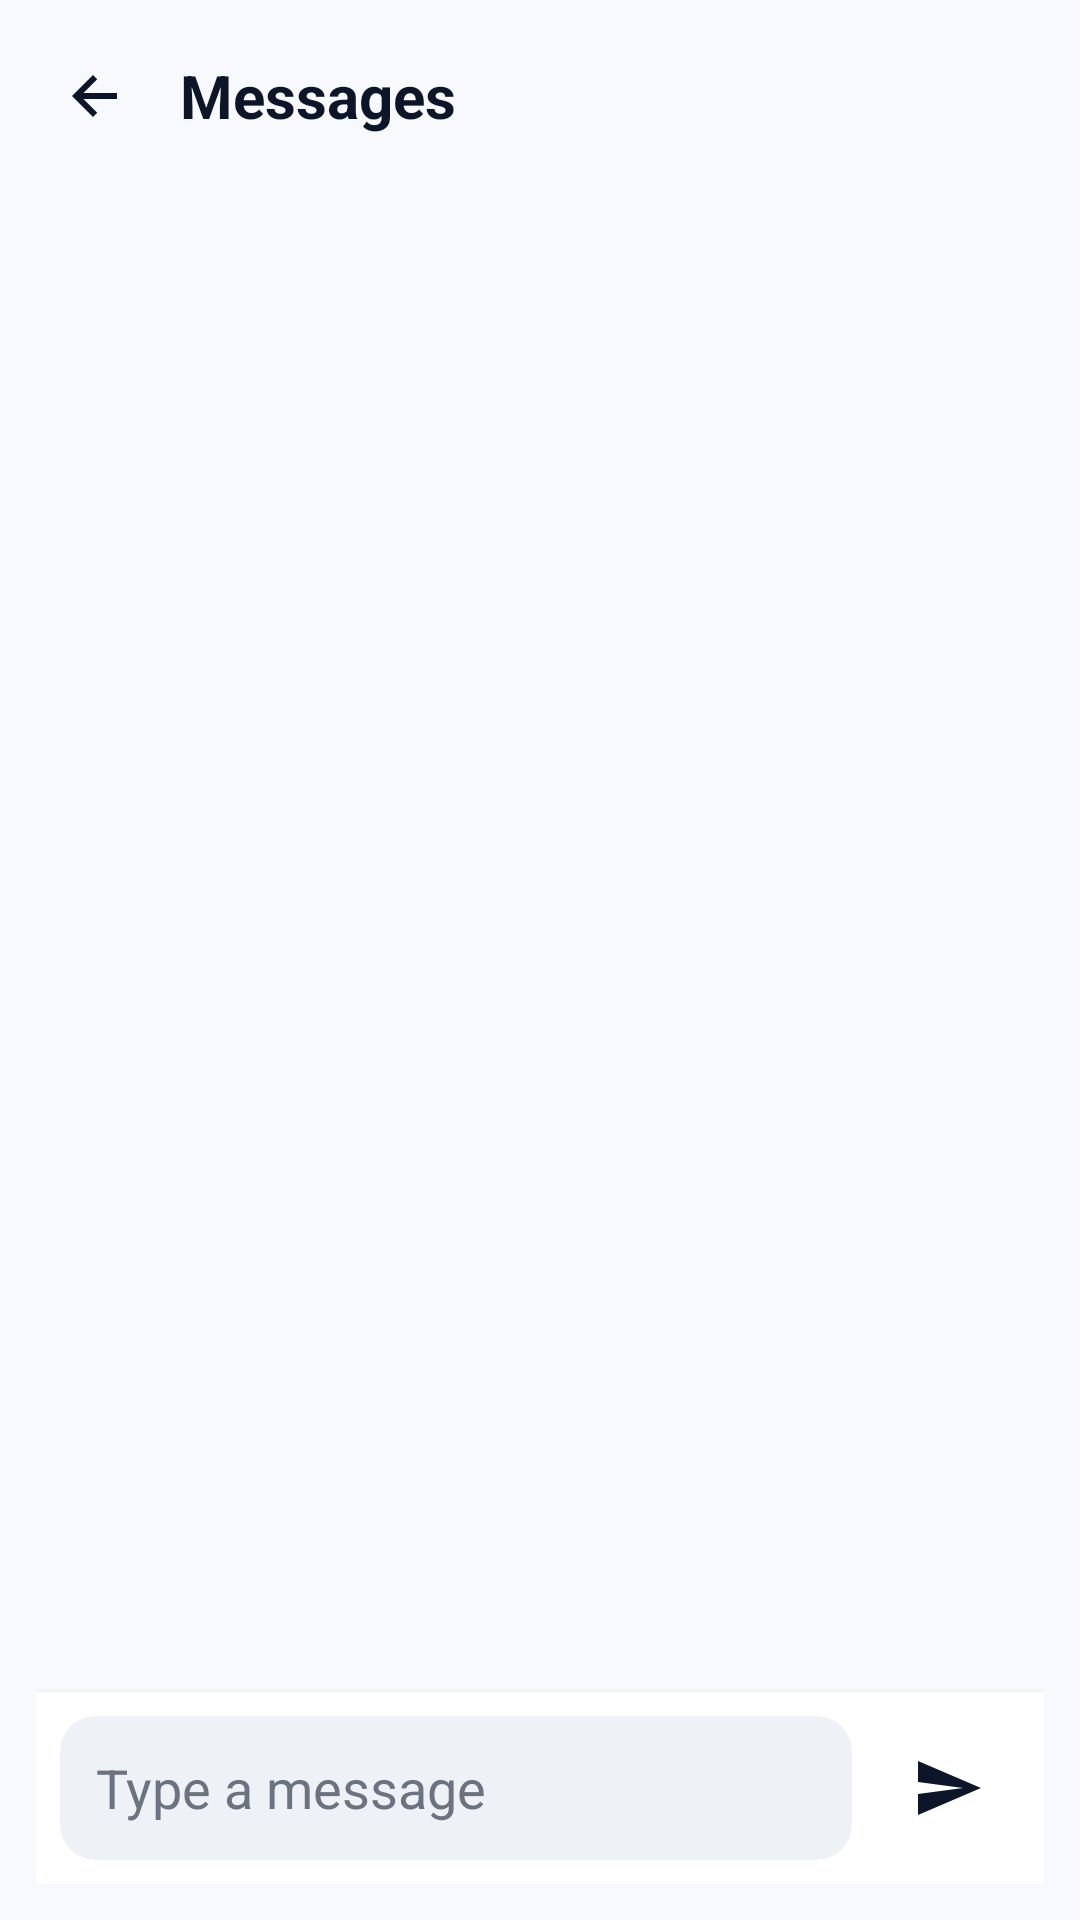

Point at icon controls on the screen. Image size 1080px x 1920px, points as (x=x, y=y).
back: (x=94, y=96)
send: (x=949, y=1788)
